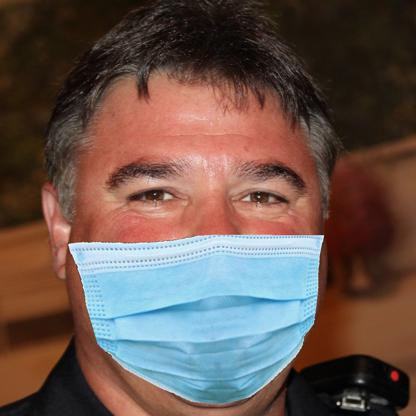mask: (67, 231, 325, 405)
